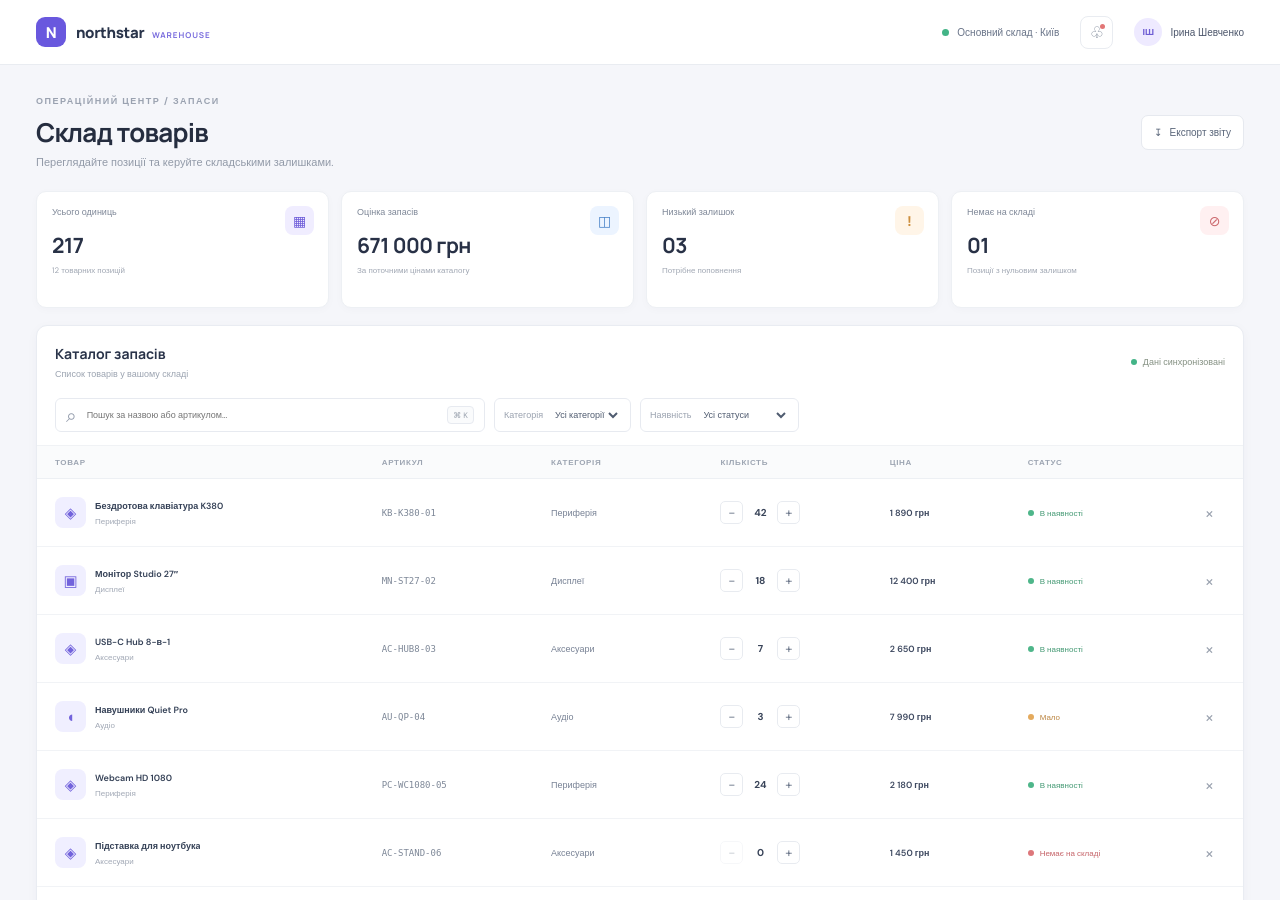
Test: warehouse inventory workflow › renders an empty result when filters have no match
Expected: the text "Бездротова клавіатура K380" is shown, [95,500,223,512]
In the field named "Пошук товарів": (262, 415) [85,408,439,422], type "not-a-real-product"
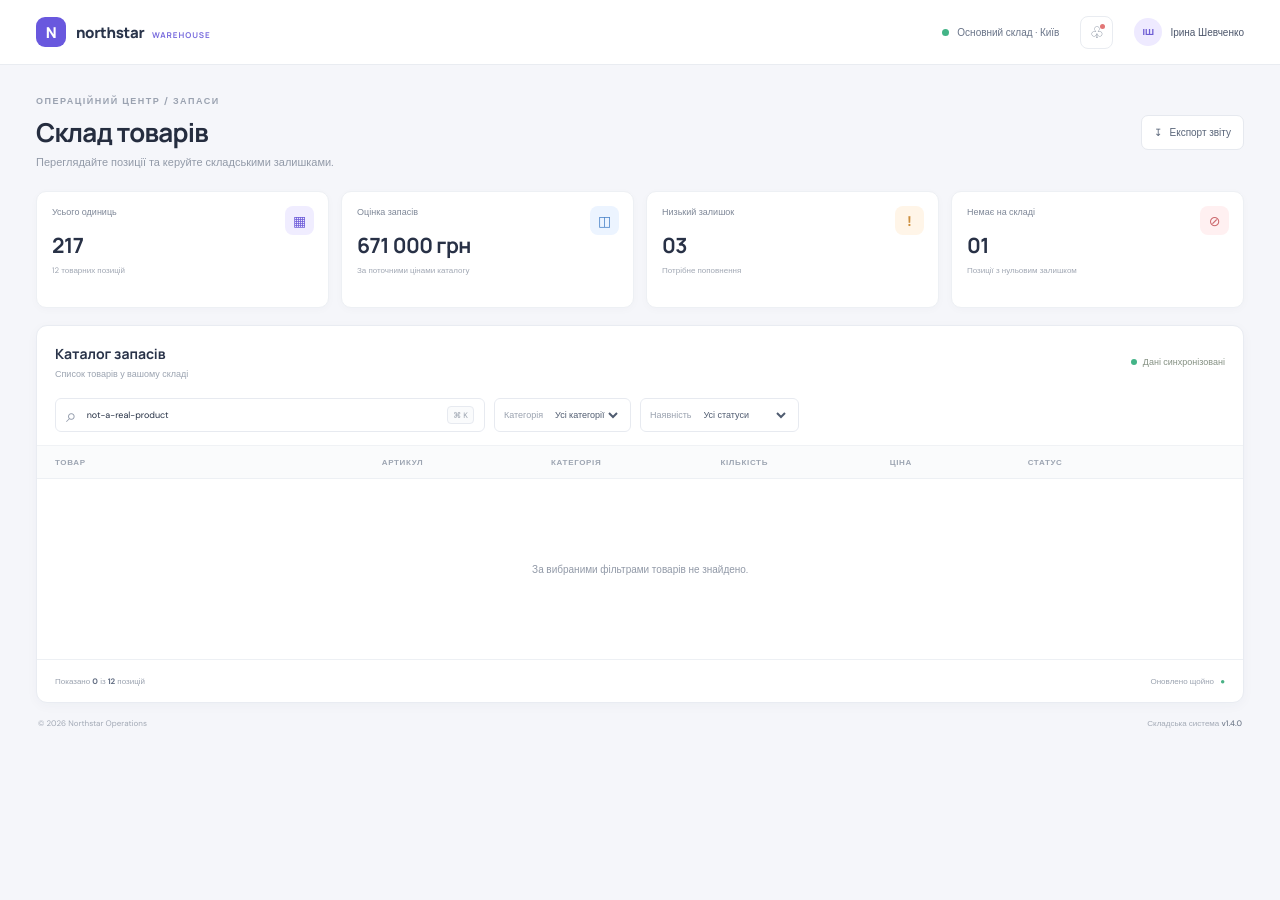
Now the text "За вибраними фільтрами товарів не знайдено." is shown, box [532,562,748,576]
